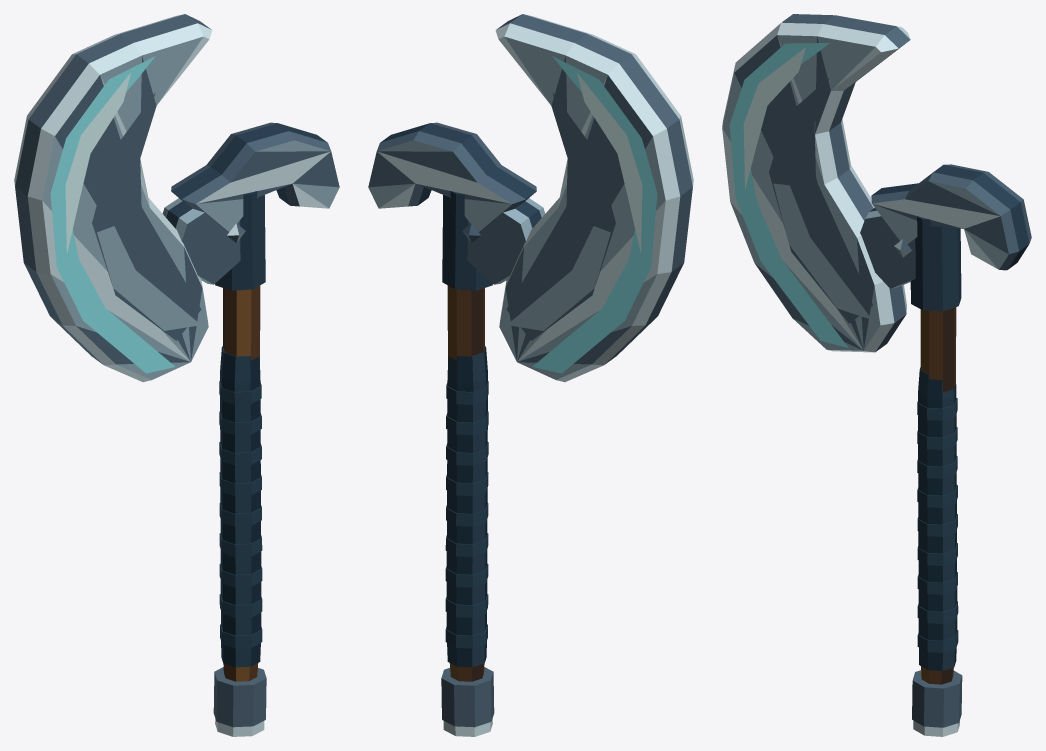
The model's file is ice_axe.obj.
The picture shows the model from 3 angles, left to right: view 1: azimuth 30°, elevation 25°; view 2: azimuth 150°, elevation 25°; view 3: azimuth 330°, elevation 25°; orthographic projection. The views are drawn at different scales.
Parts seen in each view (by area): view 1: 06_Crescent, 08_Inner_Facets, 09_Hooked_Poll, 07_Frozen_Edge, 02_Grip, 05_Socket, 03_Grip_Bands, 04_Pommel, 01_Shaft; view 2: 06_Crescent, 08_Inner_Facets, 09_Hooked_Poll, 07_Frozen_Edge, 02_Grip, 05_Socket, 03_Grip_Bands, 04_Pommel, 01_Shaft; view 3: 06_Crescent, 08_Inner_Facets, 09_Hooked_Poll, 07_Frozen_Edge, 02_Grip, 05_Socket, 03_Grip_Bands, 01_Shaft, 04_Pommel.
Boxes of the visible parts, box(x1,y1,x2,y2) form: 06_Crescent: box(14, 14, 212, 382); 08_Inner_Facets: box(92, 93, 201, 340); 09_Hooked_Poll: box(171, 122, 339, 232); 07_Frozen_Edge: box(50, 56, 175, 373); 02_Grip: box(220, 346, 261, 667); 05_Socket: box(162, 191, 265, 290); 03_Grip_Bands: box(219, 381, 262, 648); 04_Pommel: box(213, 667, 266, 736); 01_Shaft: box(223, 285, 260, 681); 06_Crescent: box(495, 14, 693, 382); 08_Inner_Facets: box(506, 93, 615, 340); 09_Hooked_Poll: box(368, 122, 536, 232); 07_Frozen_Edge: box(532, 56, 657, 373); 02_Grip: box(446, 346, 487, 667); 05_Socket: box(442, 191, 545, 290); 03_Grip_Bands: box(445, 381, 488, 648); 04_Pommel: box(441, 667, 494, 736); 01_Shaft: box(447, 285, 484, 681); 06_Crescent: box(722, 14, 910, 352); 08_Inner_Facets: box(769, 78, 872, 323); 09_Hooked_Poll: box(871, 164, 1031, 270); 07_Frozen_Edge: box(729, 43, 848, 347); 02_Grip: box(918, 367, 957, 670); 05_Socket: box(860, 208, 961, 311); 03_Grip_Bands: box(917, 398, 958, 652); 01_Shaft: box(920, 307, 956, 684); 04_Pommel: box(912, 670, 962, 736).
Size of the model in its own units: 0.5508 by 1.22 by 0.116.
